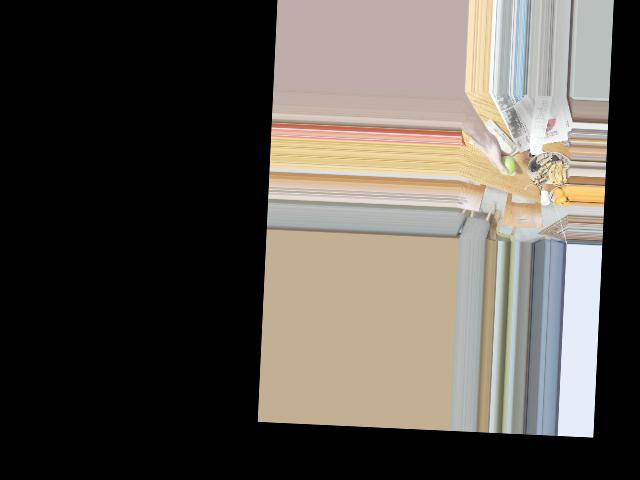apple: (495, 153, 517, 176)
